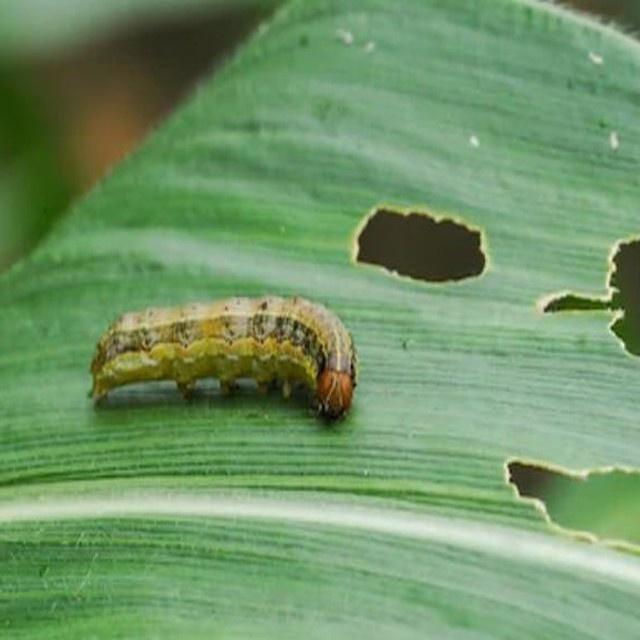gusano_cogollero: (86, 294, 356, 419)
